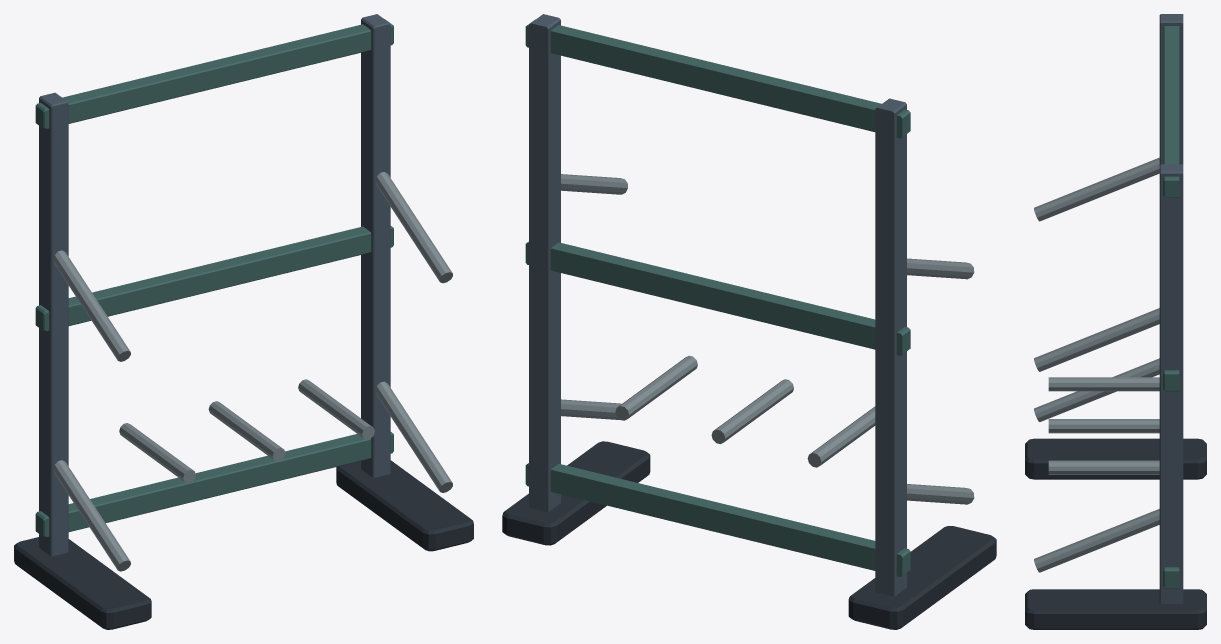
File: R-02_wheel_rack.glb
3 views of the same model, side by side, from view 1: azimuth 30°, elevation 25°; view 2: azimuth 150°, elevation 25°; view 3: azimuth 270°, elevation 25° (orthographic). The views are drawn at different scales.
Visible parts, largest first — view 1: R-02_wheel_rack; view 2: R-02_wheel_rack; view 3: R-02_wheel_rack.
Boxes of the visible parts, x1,y1,x2,y2 form: R-02_wheel_rack: (14,14,473,629); R-02_wheel_rack: (502,14,996,629); R-02_wheel_rack: (1025,14,1206,629).
Size of the model in its own units: 1.04 by 1.26 by 0.46.
